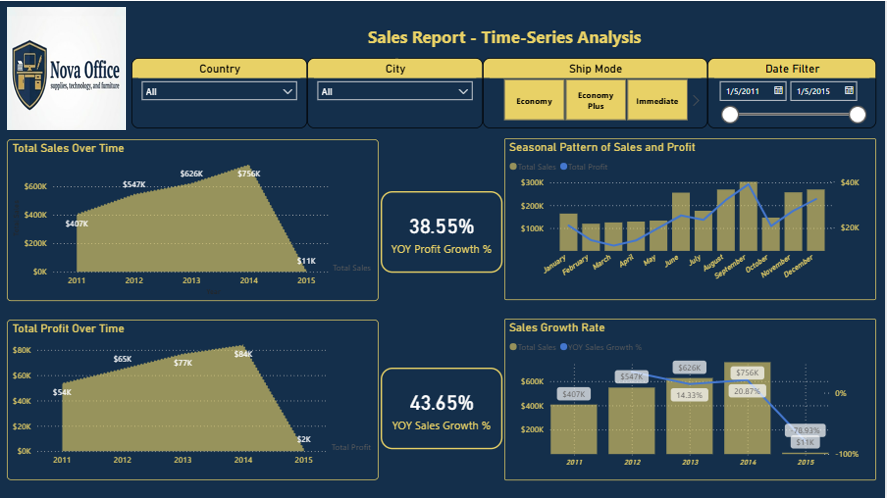

Layout of this report page (visuals, bound fields, positions):
{"tool":"powerbi","page":{"name":"Time-Series Analysis R2","canvas":[1280,720],"ordinal":1},"visuals":[{"type":"textbox","box":[206.8,30.5,1049.3,53.3],"z":0},{"type":"areaChart","title":"Total Sales Over Time","fields":{"Y":["-Measures.Total Sales"],"Category":["Dim_Date.Year"]},"box":[12.8,201.3,537.2,233.9],"z":1000},{"type":"slicer","title":"Country","fields":{"Values":["Dim_City.City"]},"box":[192.8,83.6,253.7,102],"z":2000},{"type":"slicer","title":"City","fields":{"Values":["Dim_City.City"]},"box":[446.5,83.6,253.7,102],"z":3000},{"type":"slicer","title":"Ship Mode ","fields":{"Values":["Dim_Ship Mode.Ship Mode"]},"box":[700.2,83.6,324.6,102],"z":4000},{"type":"slicer","title":"Date Filter ","fields":{"Values":["Dim_Date.Date"]},"box":[1024.7,83.6,243.8,102],"z":5000},{"type":"areaChart","title":"Total Profit Over Time","fields":{"Y":["-Measures.Total Profit"],"Category":["Dim_Date.Year"]},"box":[12.8,462,537.2,232.4],"z":6000},{"type":"lineClusteredColumnComboChart","title":"Seasonal Pattern of Sales and Profit ","fields":{"Category":["Dim_Date.Month Name"],"Y":["-Measures.Total Sales"],"Y2":["-Measures.Total Profit"]},"box":[731.3,199.8,537.2,233.9],"z":7000},{"type":"lineClusteredColumnComboChart","title":"Sales Growth Rate ","fields":{"Category":["Dim_Date.Year"],"Y":["-Measures.Total Sales"],"Y2":["-Measures.YOY Sales Growth %"]},"box":[731.3,460.6,537.2,233.9],"z":8000},{"type":"card","fields":{"Values":["-Measures.YOY Sales Growth %"]},"box":[552.8,531.5,175.7,117.6],"z":9000},{"type":"card","fields":{"Values":["-Measures.YOY Profit Growth %"]},"box":[552.8,276.4,175.7,117.6],"z":10000}]}

Visuals, with their boxes in screenshot pixels (x1, y1, x2, y2), scaled from the page's 1280x720 canvas onto the 887x499 screenshot:
textbox: x1=143, y1=21, x2=870, y2=58
"Total Sales Over Time" areaChart: x1=9, y1=140, x2=381, y2=302
"Country" slicer: x1=134, y1=58, x2=309, y2=129
"City" slicer: x1=309, y1=58, x2=485, y2=129
"Ship Mode " slicer: x1=485, y1=58, x2=710, y2=129
"Date Filter " slicer: x1=710, y1=58, x2=879, y2=129
"Total Profit Over Time" areaChart: x1=9, y1=320, x2=381, y2=481
"Seasonal Pattern of Sales and Profit " lineClusteredColumnComboChart: x1=507, y1=138, x2=879, y2=301
"Sales Growth Rate " lineClusteredColumnComboChart: x1=507, y1=319, x2=879, y2=481
card - -Measures.YOY Sales Growth %: x1=383, y1=368, x2=505, y2=450
card - -Measures.YOY Profit Growth %: x1=383, y1=192, x2=505, y2=273
